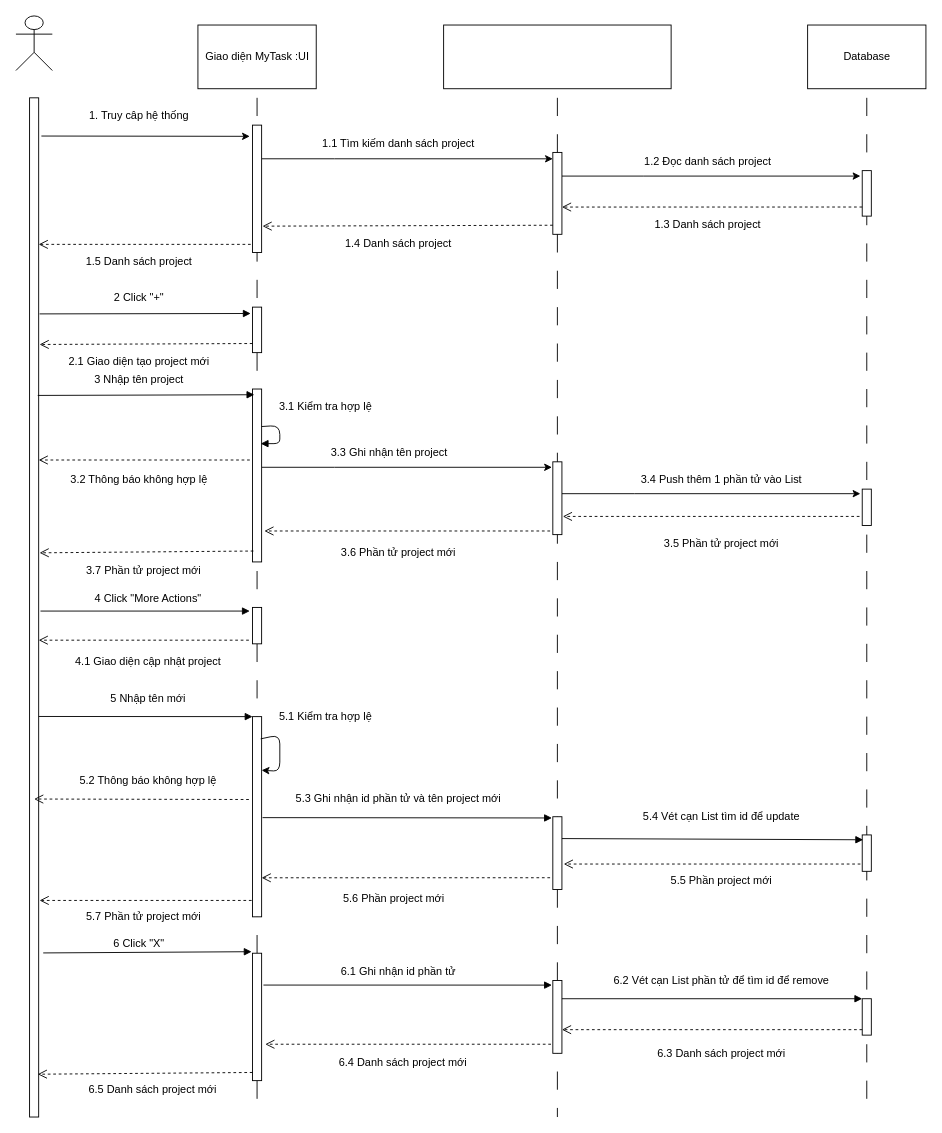
The diagram is 942 pixels wide and 1133 high, and some of its shapes have lost their labels. The centre of each missing label's shape, as x and y in pixels:
"Actor" belongs at [33,43].
"Project :ProjectController" belongs at [557,56].
